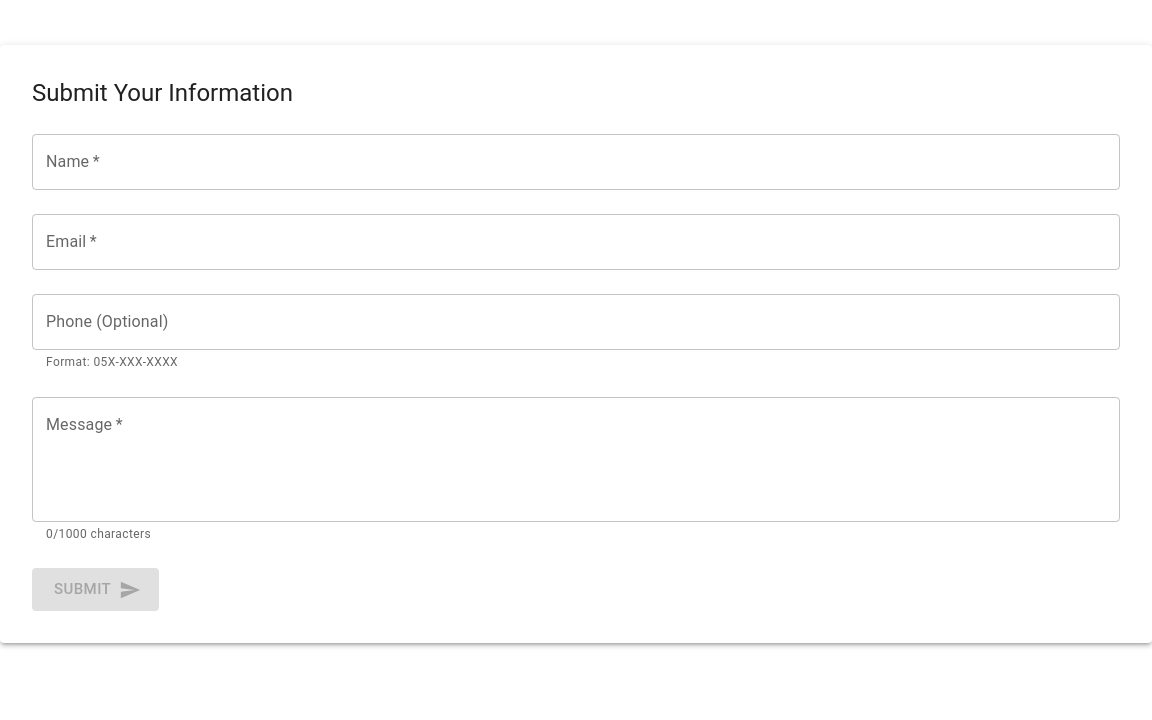
SubmissionForm › Form Submission › should show error message on submission failure
Step 1. Type "John Doe" into the field labelled "Name *" → x=576, y=162, box [32, 134, 1120, 190]
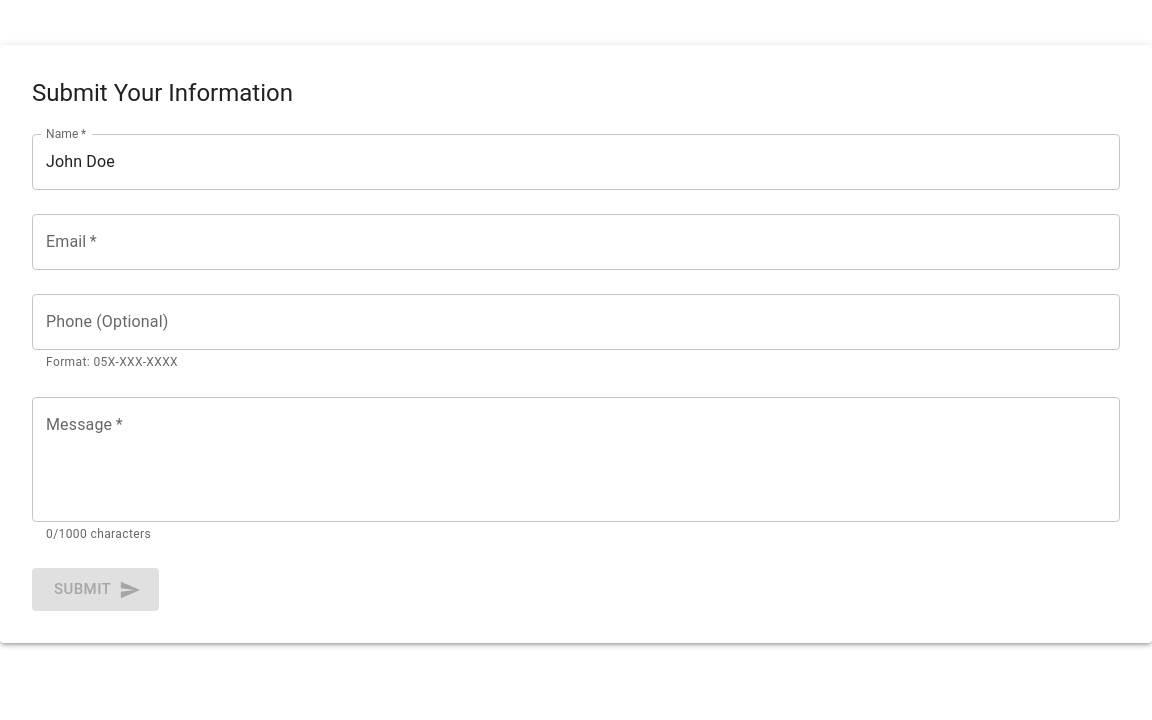
Step 2. Type "john@example.com" into the field labelled "Email *" → x=576, y=242, box [32, 214, 1120, 270]
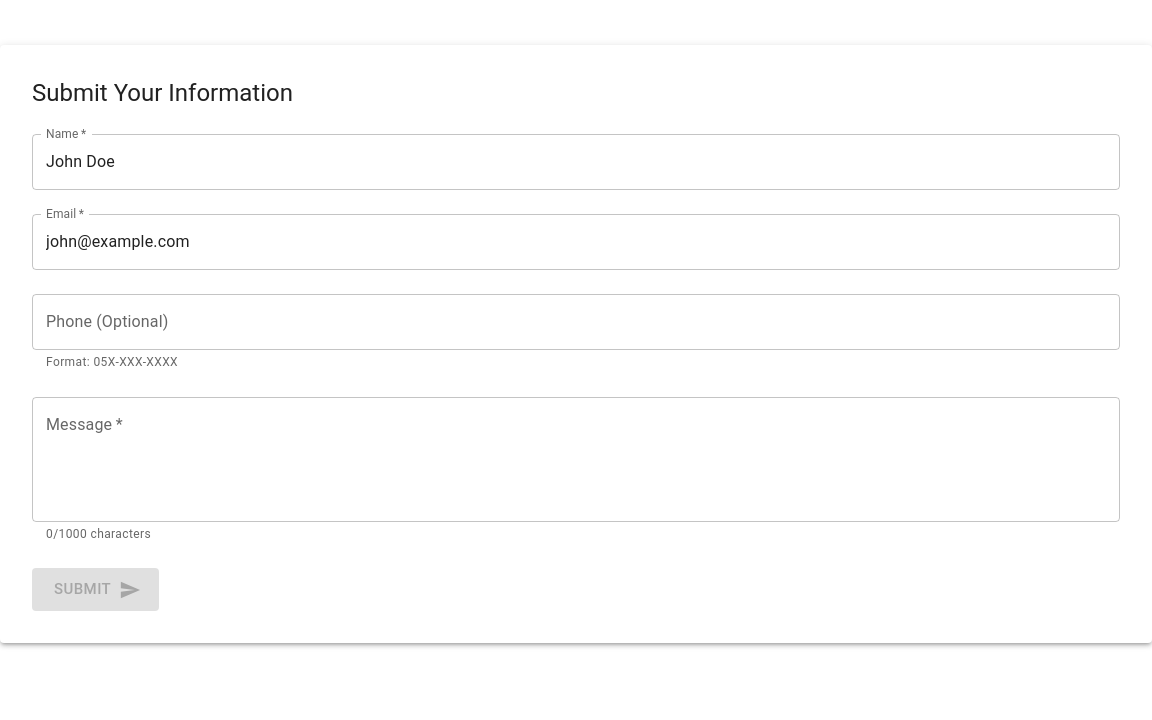
Step 3. Type "Test message" into the text box labelled "Message *" → x=576, y=459, box [46, 413, 1106, 505]
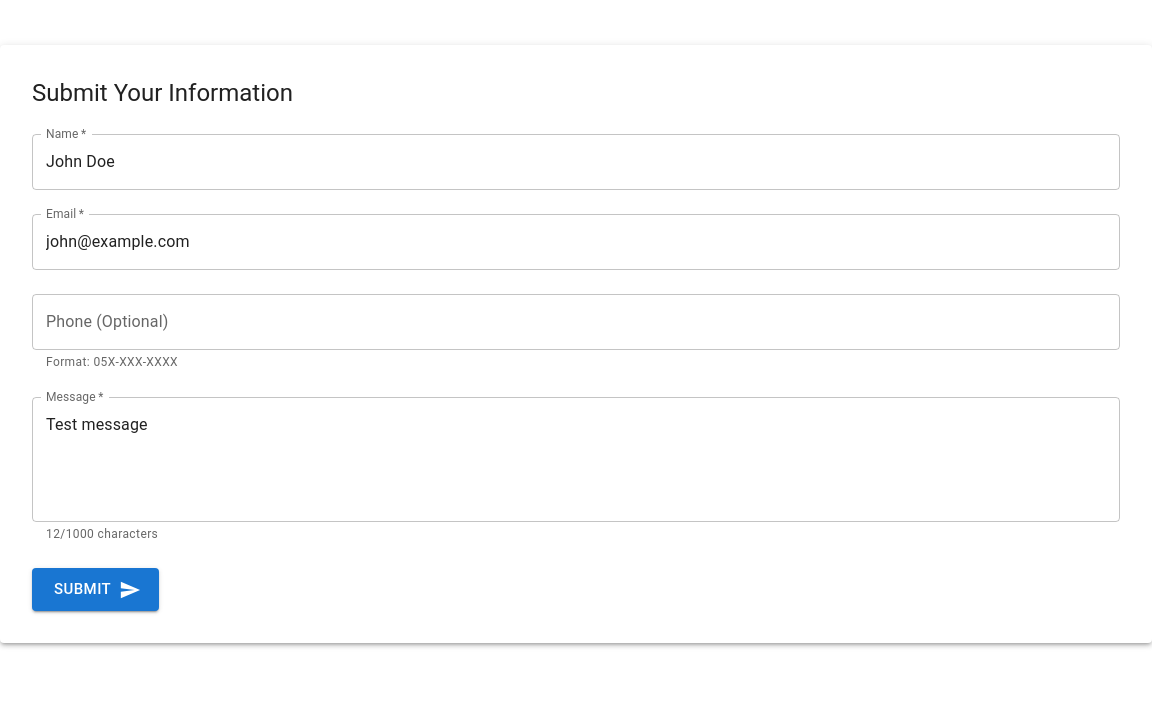
Step 4. Click the button "Submit" → x=96, y=590, box [32, 568, 159, 611]
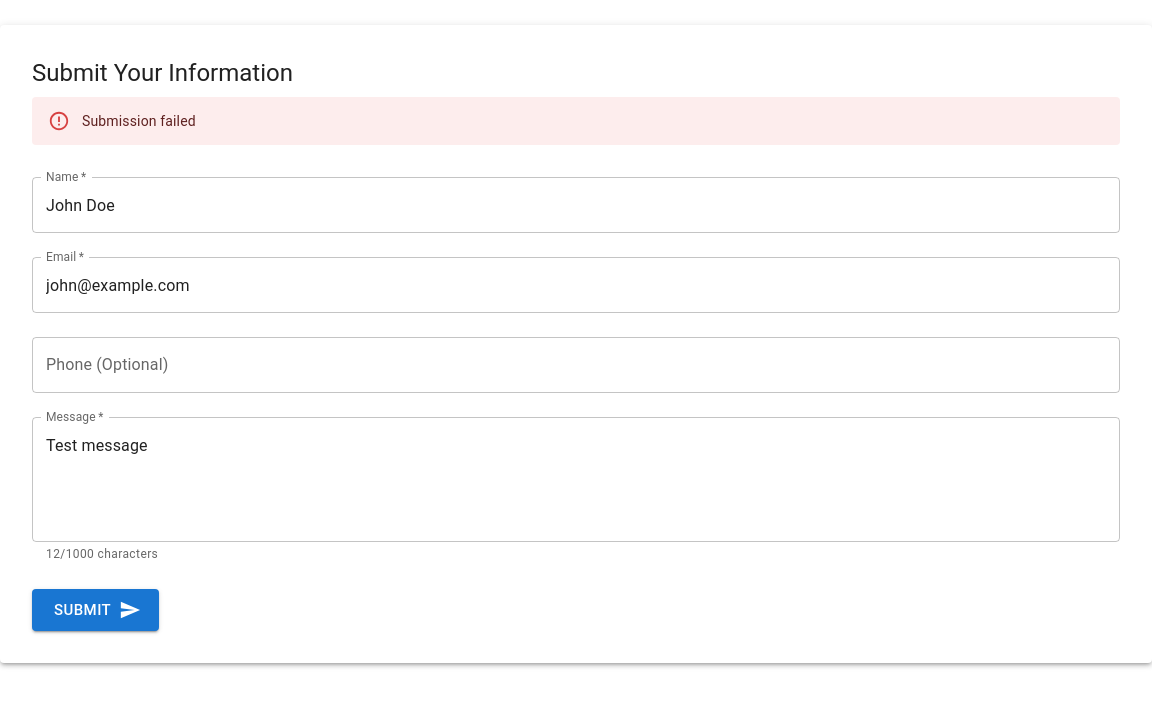
Now the text "Submission failed" is shown, box [82, 113, 196, 129]
